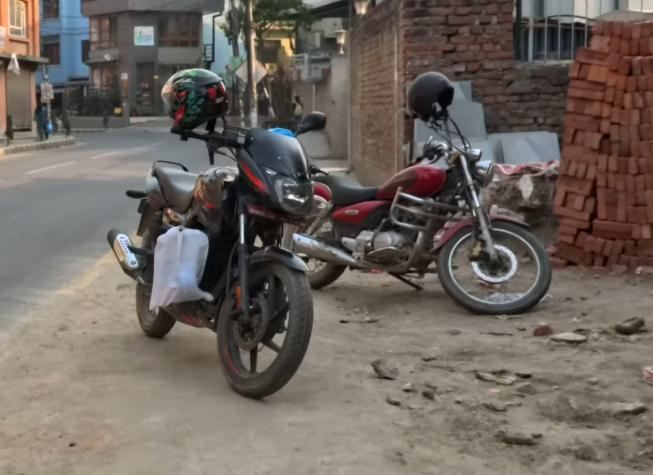bike: (106, 104, 333, 401), (286, 120, 556, 320)
